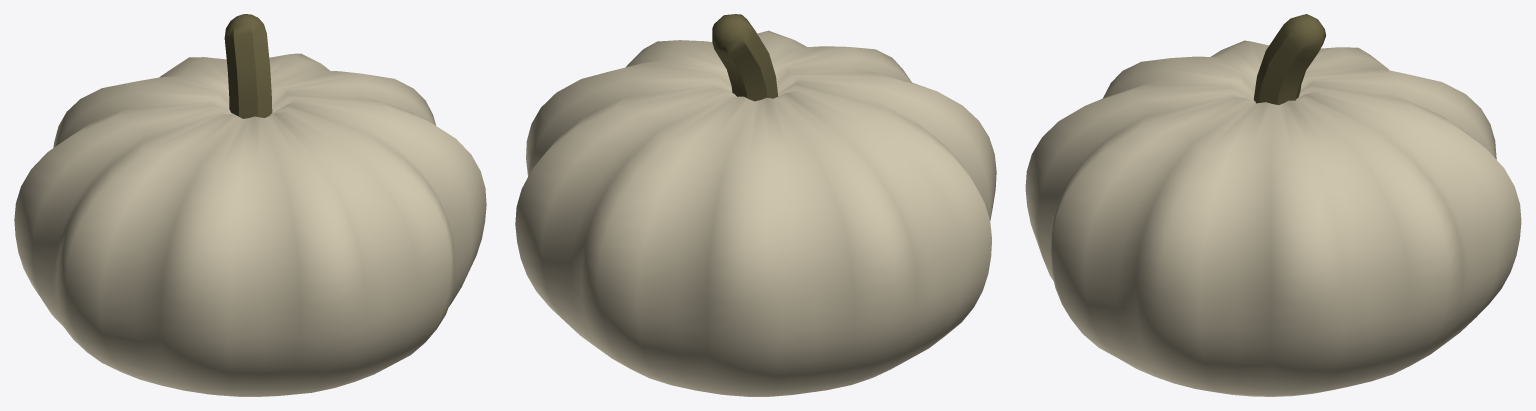
The model's file is pumpkin_cream.glb.
3 renders of one model, left to right at view 1: azimuth 30°, elevation 25°; view 2: azimuth 150°, elevation 25°; view 3: azimuth 270°, elevation 25°, orthographic. The views are drawn at different scales.
Parts seen in each view (by area): view 1: Sammel Glatt, Sammel Holz; view 2: Sammel Glatt, Sammel Holz; view 3: Sammel Glatt, Sammel Holz.
Boxes of the visible parts, box(x1,y1,x2,y2) form: Sammel Glatt: box(14, 53, 486, 396); Sammel Holz: box(224, 14, 272, 118); Sammel Glatt: box(515, 30, 996, 396); Sammel Holz: box(712, 14, 778, 101); Sammel Glatt: box(1025, 40, 1521, 396); Sammel Holz: box(1254, 14, 1325, 104).
Size of the model in its own units: 0.2971 by 0.2212 by 0.2987.
